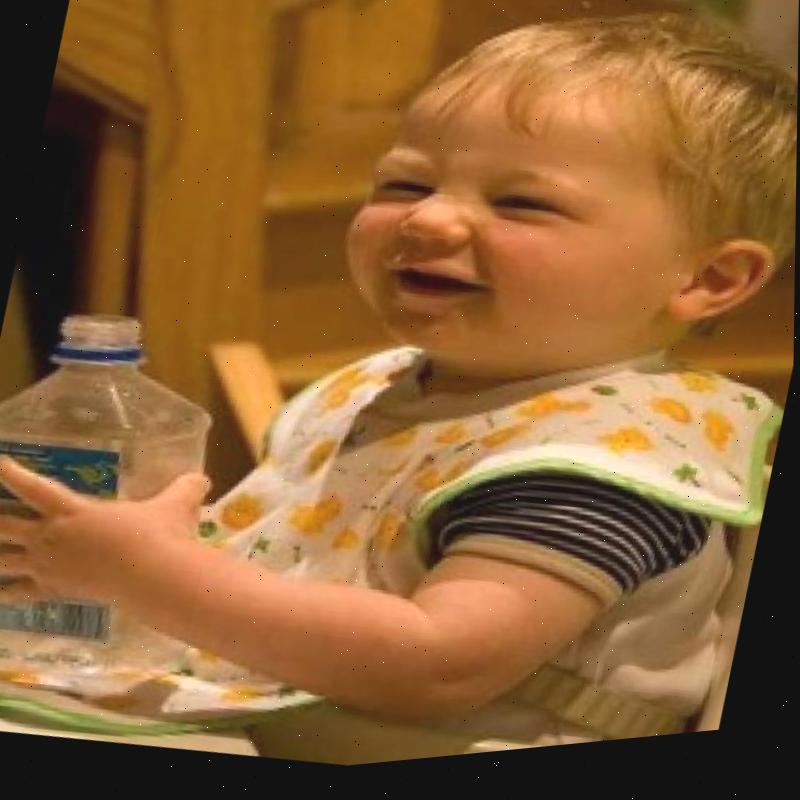botella: (0, 283, 241, 710)
